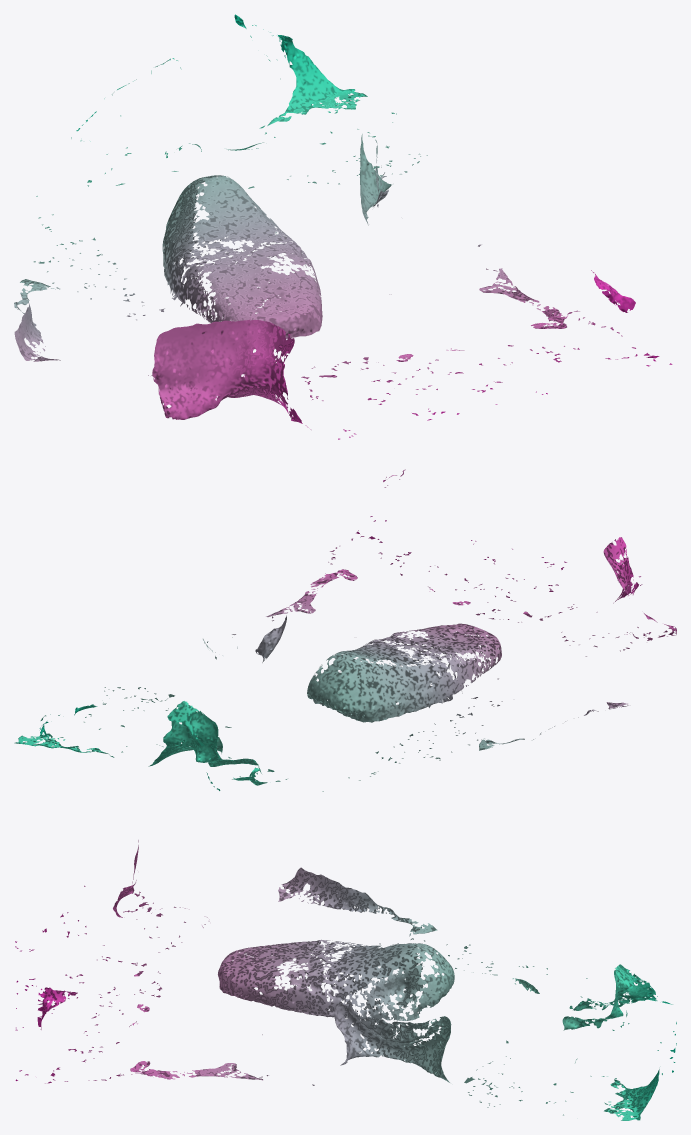
Rendered from high_res_seat.glb.
The picture shows the model from 3 angles, top to bottom: view 1: azimuth 30°, elevation 25°; view 2: azimuth 150°, elevation 25°; view 3: azimuth 270°, elevation 25°; orthographic projection. The views are drawn at different scales.
Bounding box in the file's own units: 3.19 × 0.6142 × 4.05.
